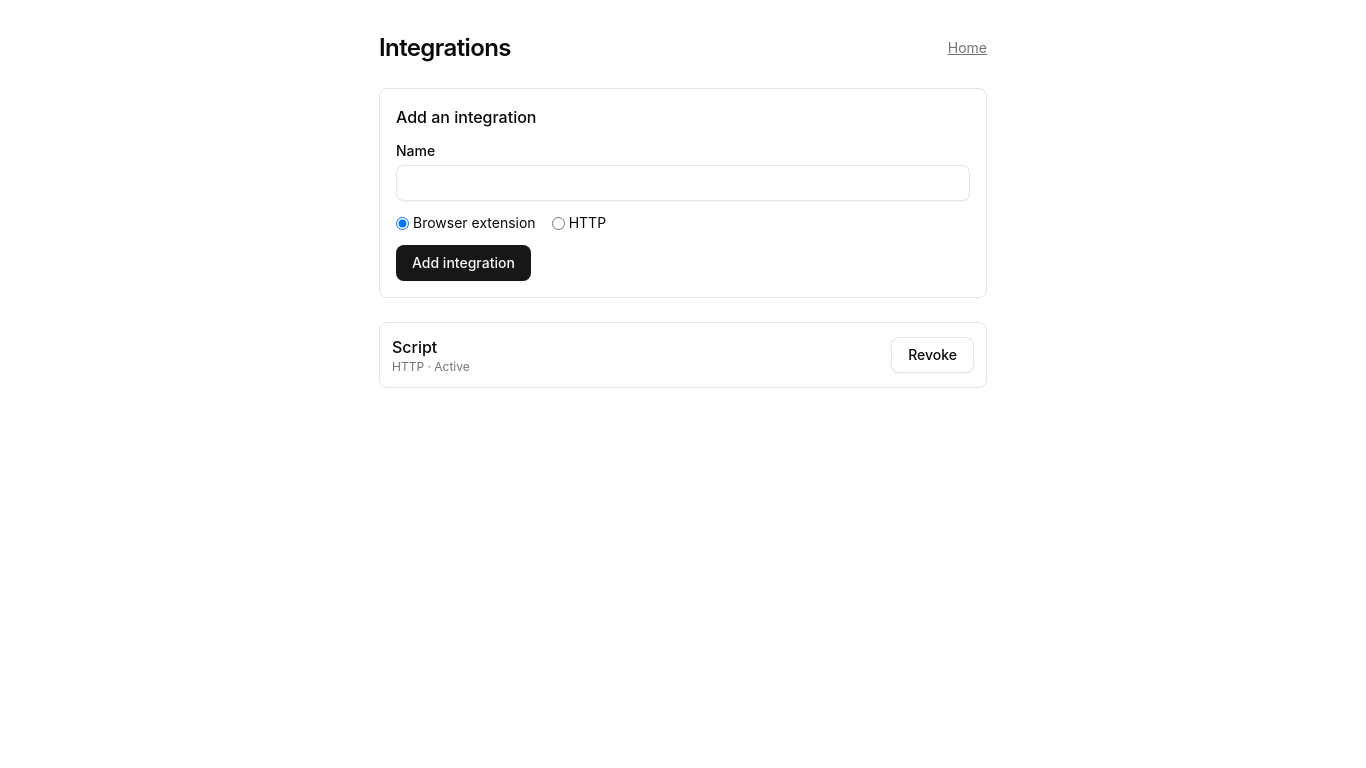
Test: integrations page › asks for confirmation before revoking, and cancel revokes nothing
The image size is (1366, 768).
Click the button with aria-label "revoke script" at [933, 355], box 891,337 -> 974,373
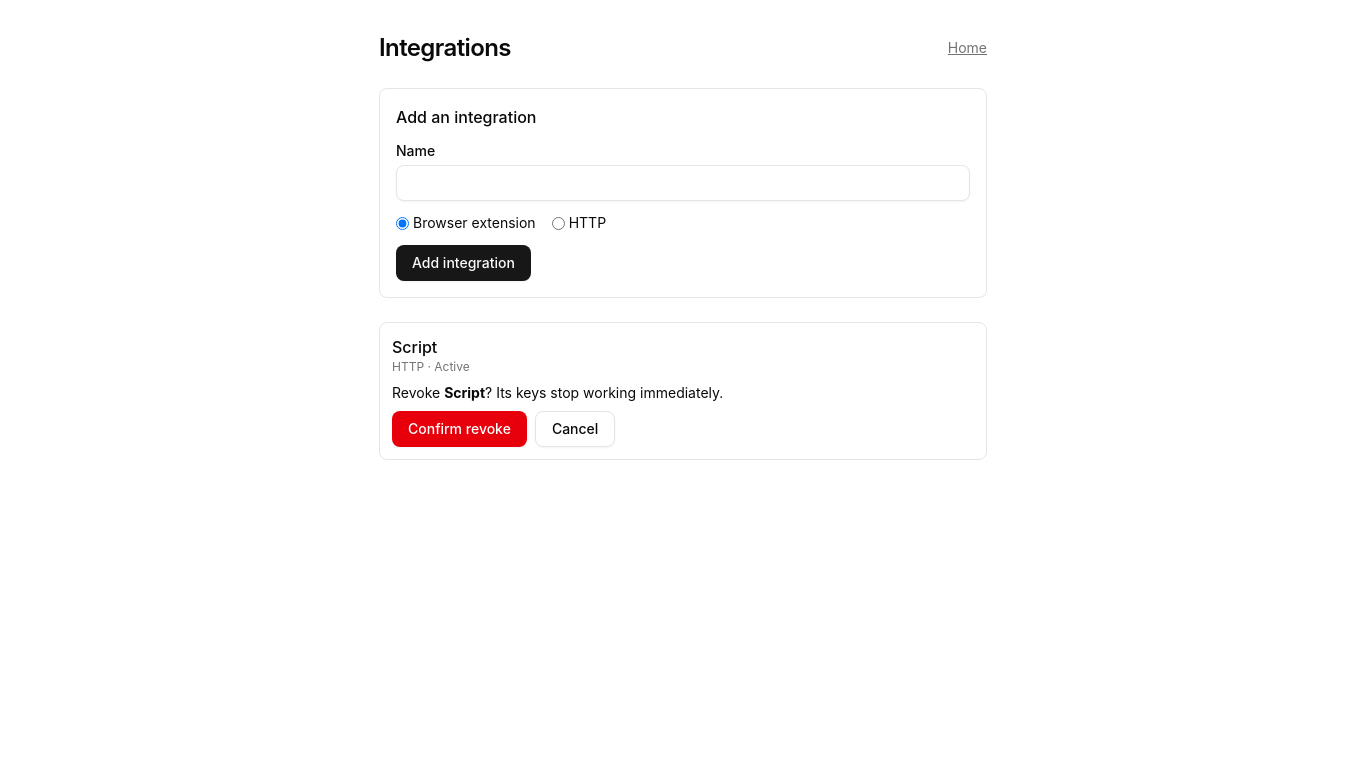
Expected: the dialog is shown, 392,384 -> 723,447
Click the button "Cancel" at [575, 429], box 535,411 -> 615,447
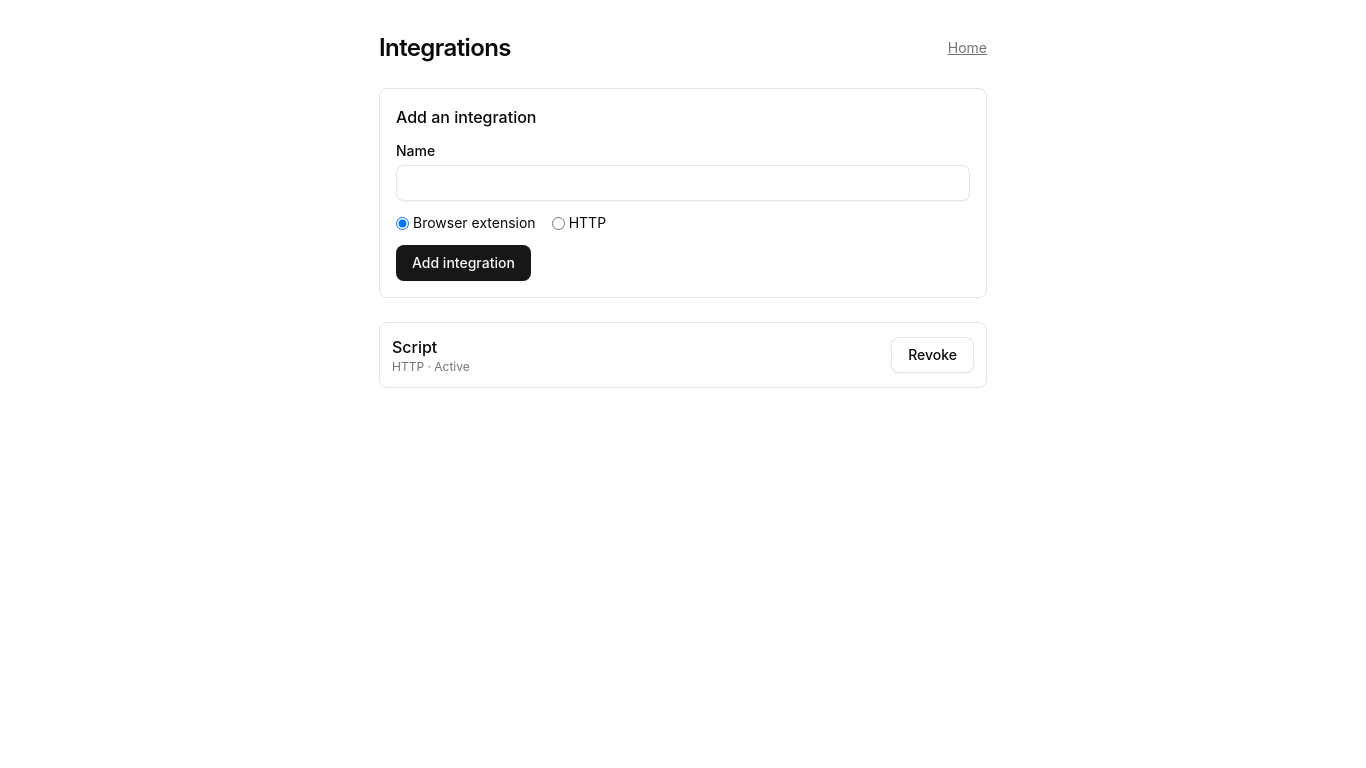
Expected: the dialog is gone
